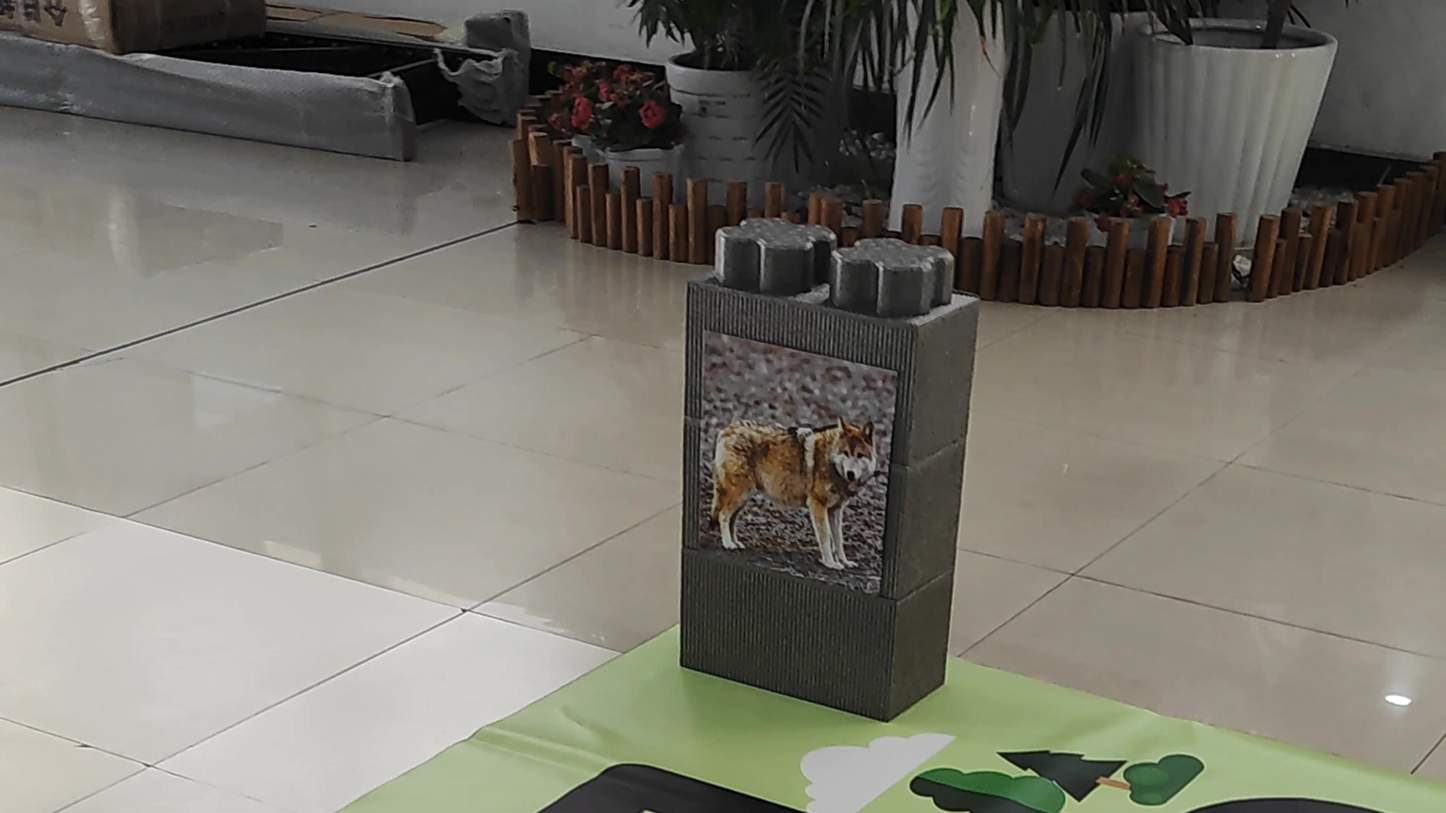wolf: (697, 385, 883, 569)
